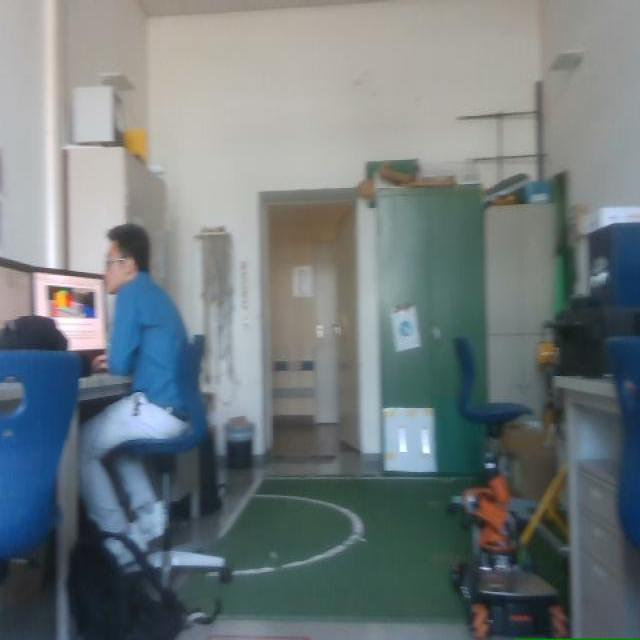humans: (79, 224, 188, 547)
objects: (555, 376, 639, 636), (0, 351, 80, 575), (115, 335, 208, 511), (67, 535, 187, 639), (101, 531, 232, 601), (31, 268, 108, 353)
